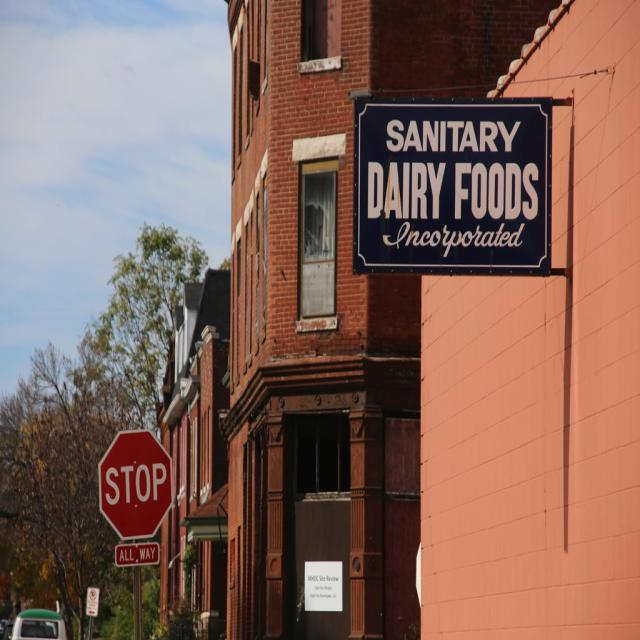Stop-sign: (96, 427, 177, 540)
